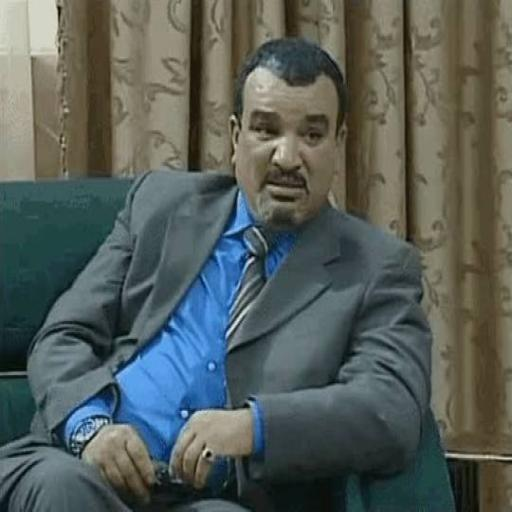slimane: (229, 40, 345, 228)
